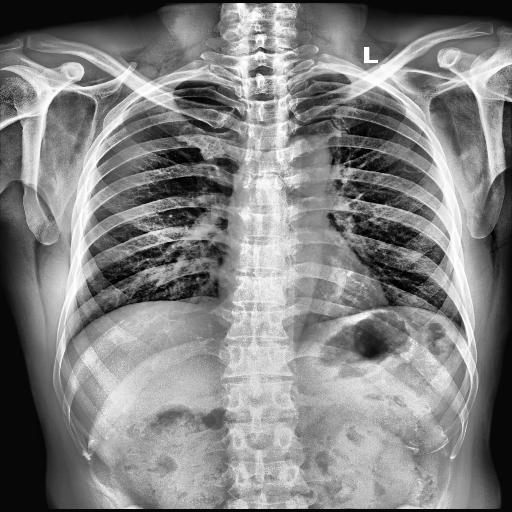0- Aortic enlargement: (275, 132, 331, 198), (272, 136, 332, 186), (285, 132, 332, 185)
